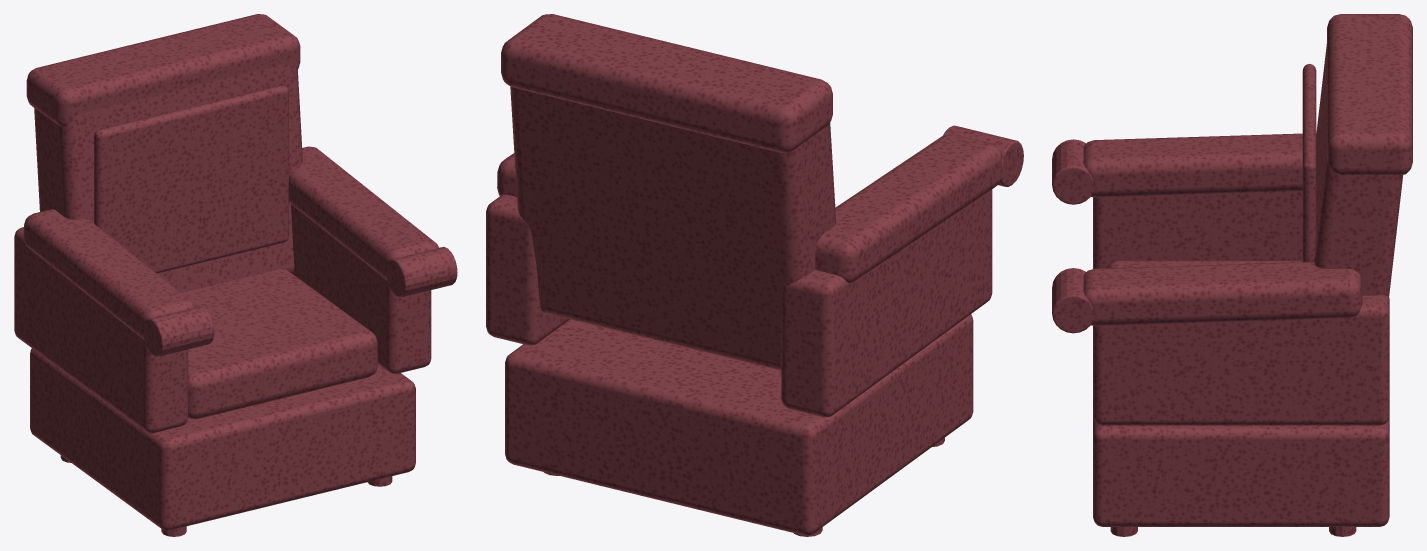
Rendered from FUR_Armchair.fbx.
3 views of the same model, side by side, from view 1: azimuth 30°, elevation 25°; view 2: azimuth 150°, elevation 25°; view 3: azimuth 270°, elevation 25° (orthographic). The views are drawn at different scales.
Visible parts, largest first — view 1: Armchair_Body, Armchair_Cushion; view 2: Armchair_Body; view 3: Armchair_Body, Armchair_Cushion.
Boxes of the visible parts, x1,y1,x2,y2 form: Armchair_Body: [14, 14, 457, 536]; Armchair_Cushion: [181, 269, 377, 419]; Armchair_Body: [486, 14, 1023, 536]; Armchair_Body: [1052, 14, 1412, 536]; Armchair_Cushion: [1107, 260, 1302, 268].
Size of the model in its own units: 95 by 114 by 92.5.
